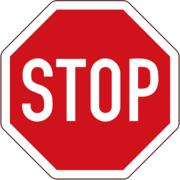Stop: (7, 10, 175, 168)
